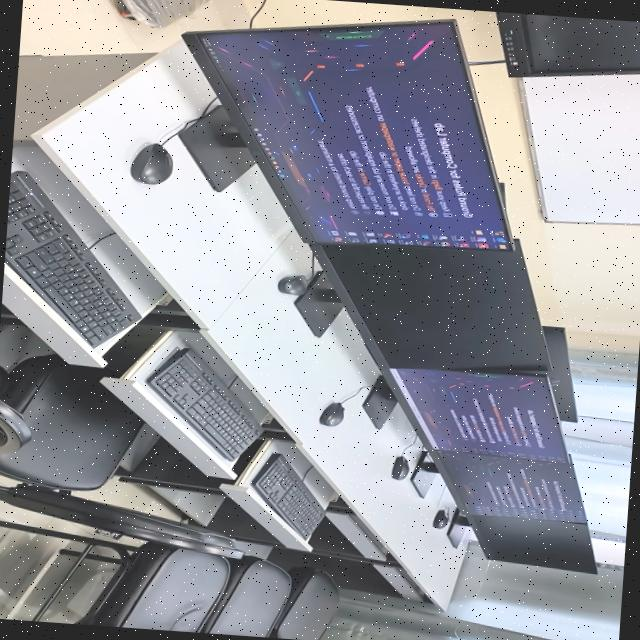Chair: (0, 354, 241, 557), (0, 521, 228, 632), (198, 555, 289, 637), (268, 567, 338, 640), (0, 400, 30, 454)
Digital board: (495, 11, 640, 77)
Keyboard: (3, 170, 141, 348), (146, 349, 258, 461), (250, 453, 323, 540)
Monitor: (187, 20, 511, 251), (310, 243, 549, 372), (389, 369, 565, 462), (438, 451, 585, 522), (467, 515, 595, 573), (538, 326, 576, 422)
Mouse: (129, 143, 172, 184), (318, 403, 344, 426), (277, 275, 306, 295), (390, 456, 408, 480), (432, 510, 448, 528)
